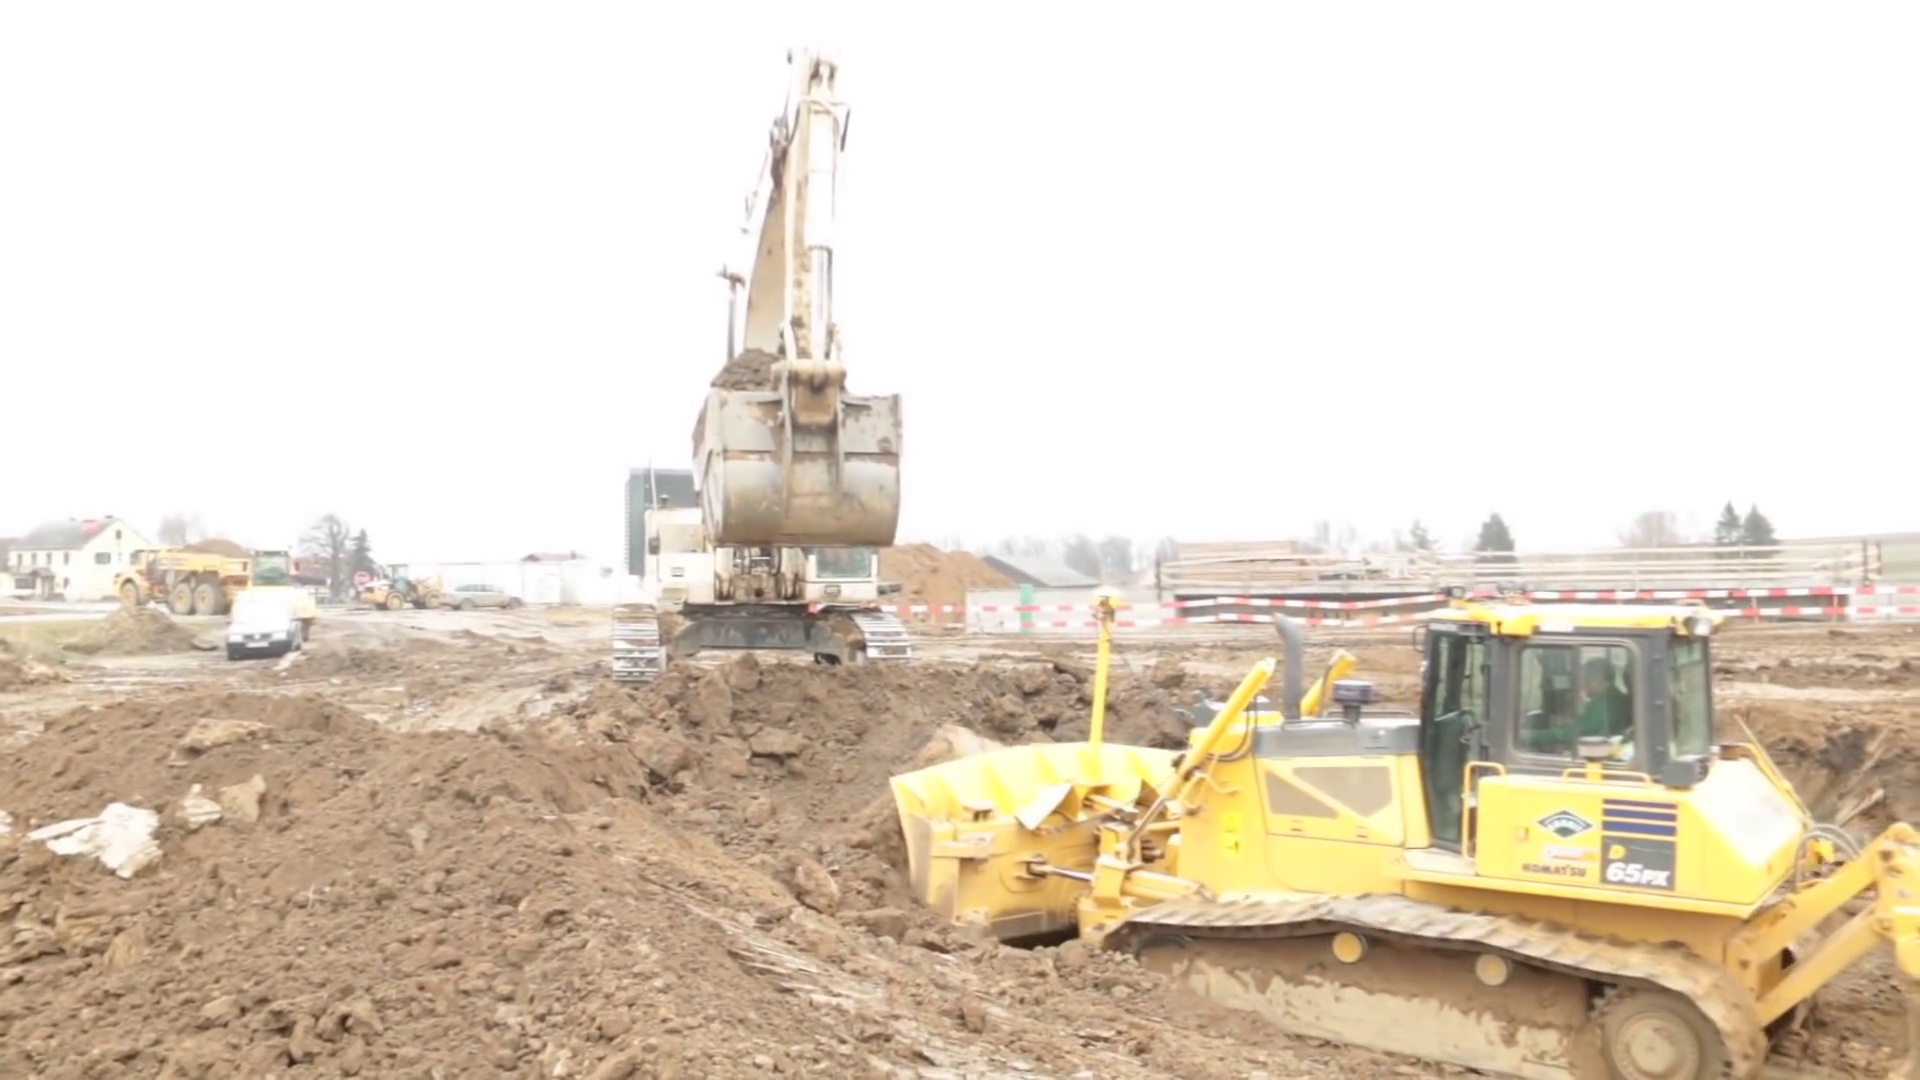bulldozer: (885, 596, 1920, 1069)
car: (434, 583, 516, 609)
dumper: (109, 542, 248, 604)
excavator: (615, 42, 915, 673)
